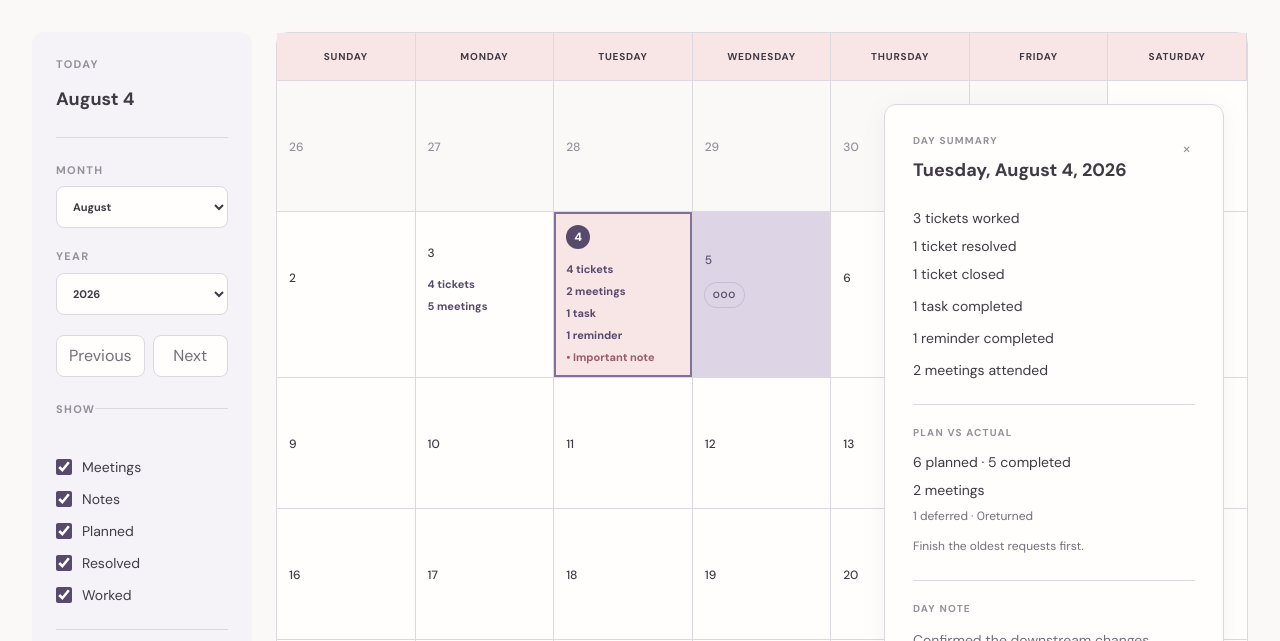
Scenario: MonthlyCalendar › shows a planned-only day inside its calendar cell
Expected: the text "4 tickets" is shown 2 times, [428,277,475,291]; [566,262,613,276]
Expected: the text "5 meetings" is shown, [428,299,488,313]
Click the button with aria-label "Open summary for Monday, August 3, 2026" at (484, 277), box [416,212,553,342]
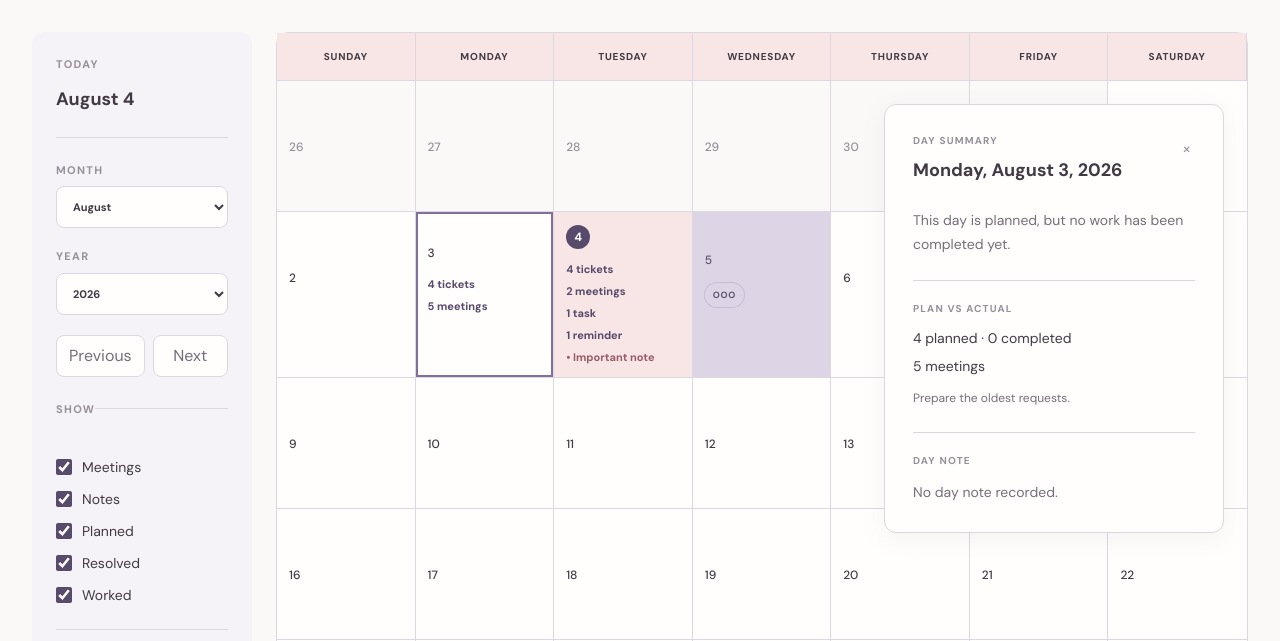
Expected: the text "5 meetings" is shown 2 times, [428,299,488,313]; [913,357,985,375]
Result: the text "This day is planned, but no work has been completed yet." is shown at [913,208,1195,256]
Result: the text "4 planned · 0 completed" is shown at [913,329,1072,347]
